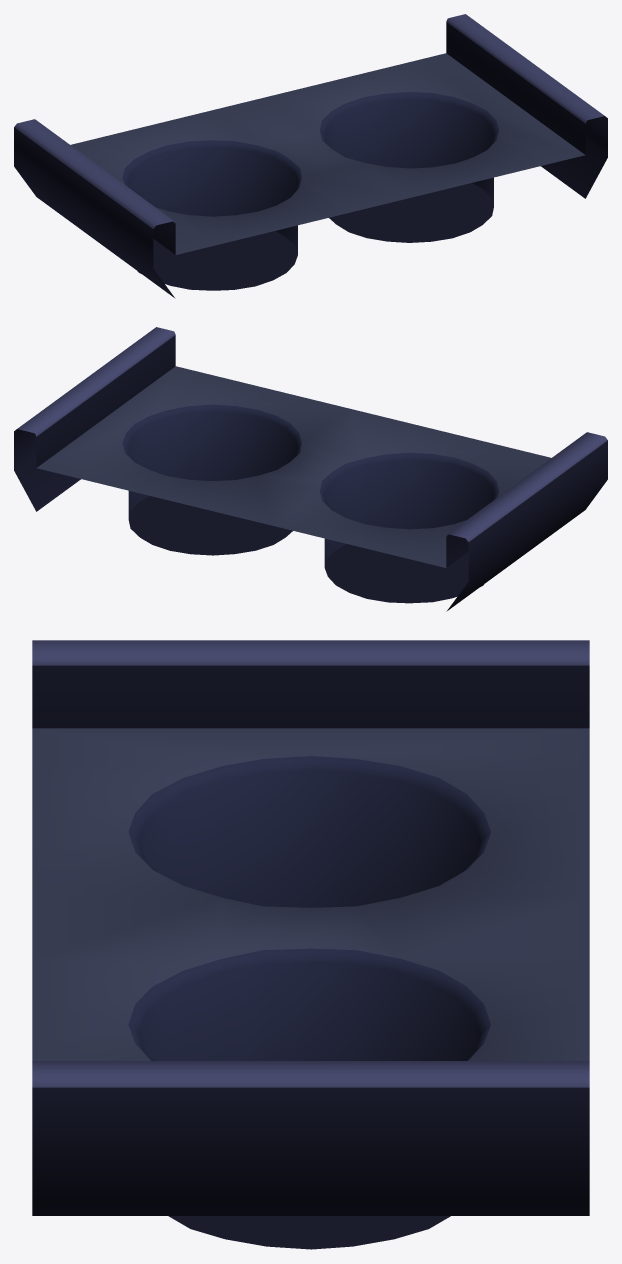
Rendered from Temporary_Tray_Middle.fbx.
3 views of the same model, one above another, from view 1: azimuth 30°, elevation 25°; view 2: azimuth 150°, elevation 25°; view 3: azimuth 270°, elevation 25° (orthographic). The views are drawn at different scales.
Parts seen in each view (by area): view 1: Temporary_Tray_Middle; view 2: Temporary_Tray_Middle; view 3: Temporary_Tray_Middle.
Boxes of the visible parts, box(x1,y1,x2,y2) form: Temporary_Tray_Middle: box(14, 14, 607, 298); Temporary_Tray_Middle: box(14, 327, 607, 611); Temporary_Tray_Middle: box(32, 640, 589, 1249).
Size of the model in its own units: 518 by 121 by 275.
